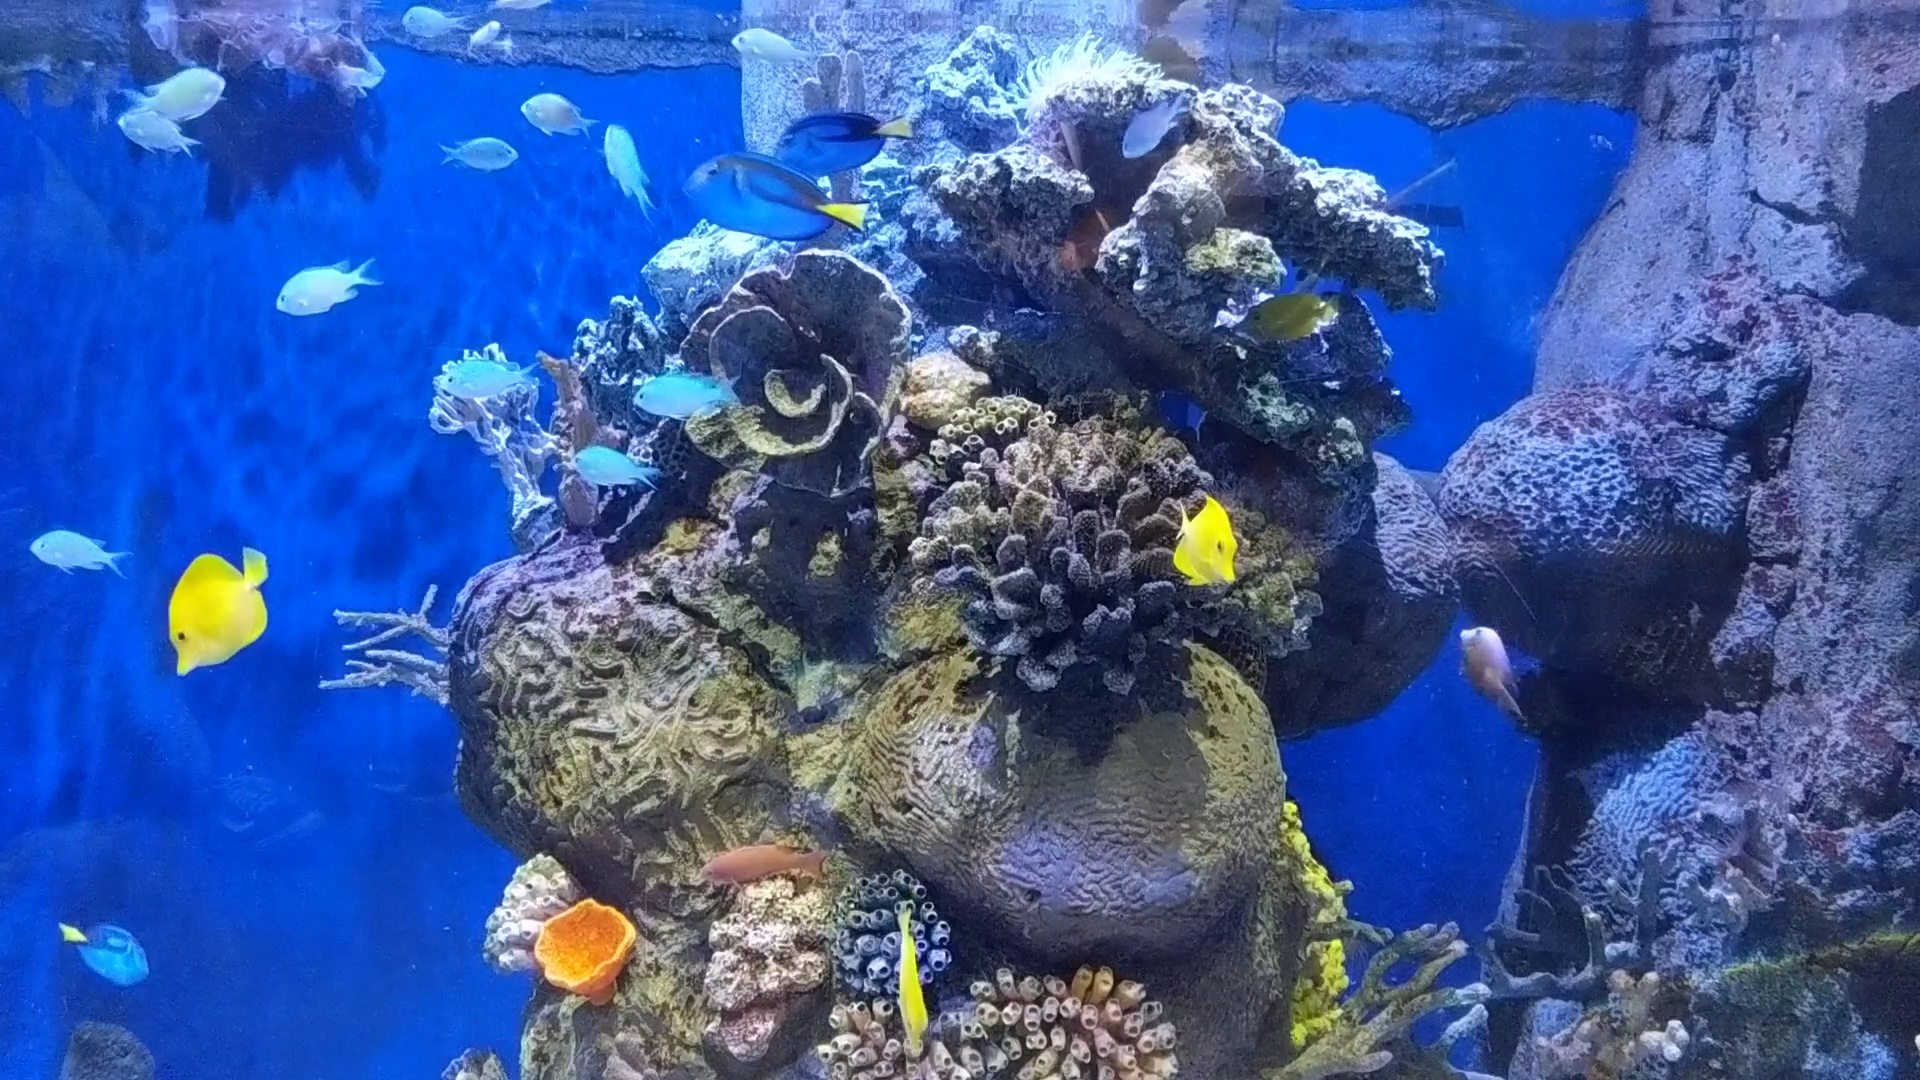blue tang surgeonfish: (676, 135, 877, 255), (45, 909, 164, 1005), (769, 105, 916, 175)
damselfish: (620, 345, 741, 442), (258, 235, 380, 324), (411, 111, 520, 193), (418, 348, 542, 415), (1093, 76, 1187, 165), (26, 518, 135, 592), (510, 71, 600, 146), (111, 95, 202, 164), (562, 438, 654, 502), (596, 119, 647, 215), (152, 61, 225, 117), (390, 0, 473, 40)
pink fish: (1448, 615, 1534, 727)
saddle butterfly fish: (158, 535, 282, 674), (1153, 483, 1258, 593), (1242, 282, 1338, 349)
